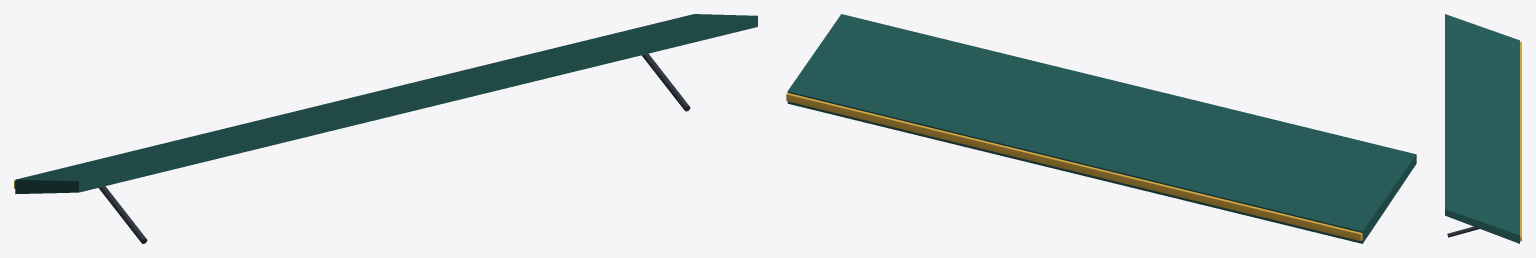
Rendered from shop-awning.glb.
3 views of the same model, side by side, from view 1: azimuth 30°, elevation 25°; view 2: azimuth 150°, elevation 25°; view 3: azimuth 270°, elevation 25° (orthographic). The views are drawn at different scales.
Visible parts, largest first — view 1: shell-teal, shell-navy; view 2: shell-teal, shell-yellow; view 3: shell-teal, shell-yellow, shell-navy.
Part boxes in pixels (x1=…): shell-teal: x1=15, y1=14, x2=757, y2=194; shell-navy: x1=99, y1=53, x2=690, y2=243; shell-teal: x1=787, y1=14, x2=1416, y2=243; shell-yellow: x1=786, y1=93, x2=1362, y2=241; shell-teal: x1=1445, y1=14, x2=1519, y2=243; shell-yellow: x1=1520, y1=41, x2=1521, y2=241; shell-navy: x1=1447, y1=226, x2=1479, y2=237.
Size of the model in its own units: 6.35 by 0.7268 by 1.06.
